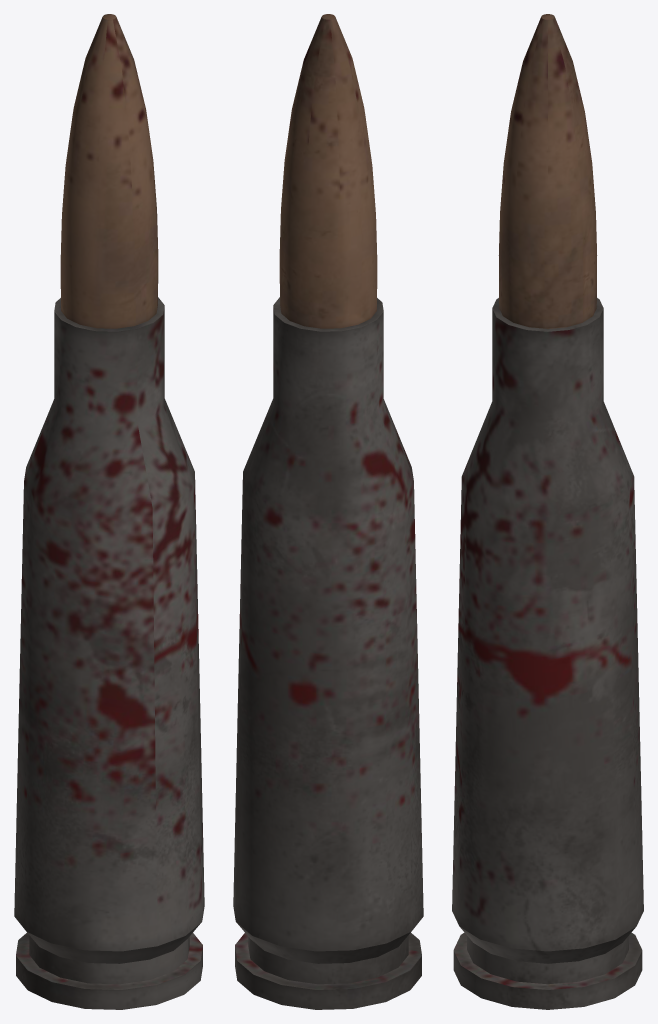
Rendered from 5.45_blood.glb.
The picture shows the model from 3 angles, left to right: view 1: azimuth 30°, elevation 25°; view 2: azimuth 150°, elevation 25°; view 3: azimuth 270°, elevation 25°; orthographic projection.
Visible parts, largest first — view 1: 5.45_blood; view 2: 5.45_blood; view 3: 5.45_blood.
Part boxes in pixels (x1=…): 5.45_blood: x1=14, y1=14, x2=204, y2=1009; 5.45_blood: x1=233, y1=14, x2=423, y2=1009; 5.45_blood: x1=452, y1=14, x2=643, y2=1009.
Size of the model in its own units: 0.1939 by 1.06 by 0.1939.
Materials: 1 (1 with a texture image).
